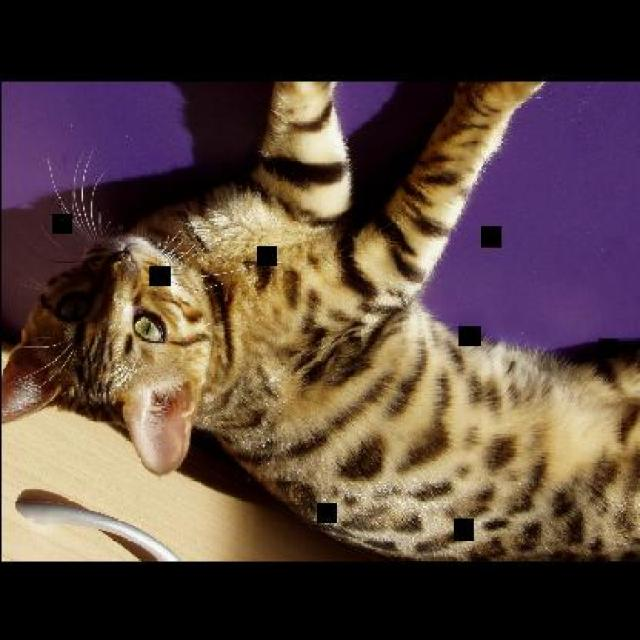unauthorized: (0, 76, 638, 561)
